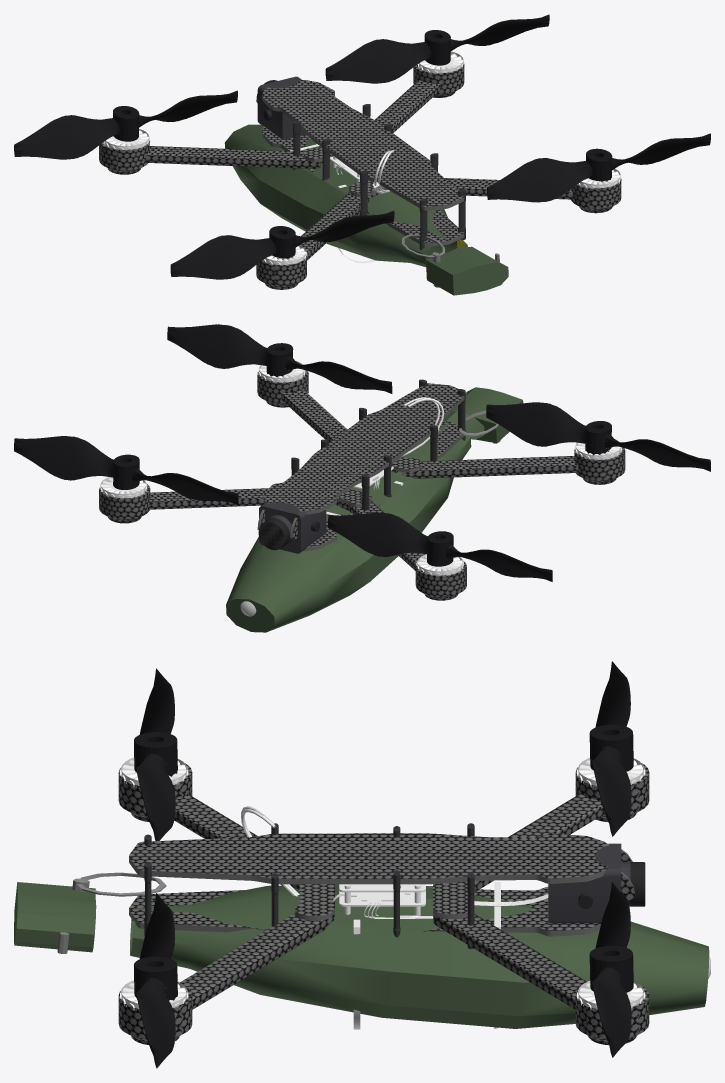
File: dron4.gltf
The picture shows the model from 3 angles, top to bottom: view 1: azimuth 30°, elevation 25°; view 2: azimuth 150°, elevation 25°; view 3: azimuth 270°, elevation 25°; orthographic projection. The views are drawn at different scales.
Visible parts, largest first — view 1: object 9, Circle, wirt4, wirt3, Geode, wirt2, Object_Material.003_0, object 8, object 7; view 2: object 9, Circle, wirt4, wirt3, Geode, wirt2, Object_Material.003_0, object 7, object 8; view 3: object 9, Circle, Object_Material.003_0, wirt4, wirt3, wirt2, Geode, object 7, object 8.
Part boxes in pixels (x1,y1,x2,y2): object 9: [99, 64, 621, 289]; Circle: [224, 124, 508, 295]; wirt4: [325, 14, 549, 83]; wirt3: [14, 90, 237, 159]; Geode: [170, 210, 394, 279]; wirt2: [487, 133, 710, 202]; Object_Material.003_0: [103, 51, 621, 264]; object 8: [293, 104, 465, 249]; object 7: [257, 76, 306, 139]; object 9: [99, 370, 625, 600]; Circle: [226, 387, 523, 632]; wirt4: [14, 436, 238, 505]; wirt3: [328, 512, 552, 581]; Geode: [486, 402, 710, 471]; wirt2: [167, 324, 392, 393]; Object_Material.003_0: [99, 361, 622, 616]; object 7: [258, 502, 326, 553]; object 8: [291, 379, 465, 510]; object 9: [118, 763, 649, 1045]; Circle: [14, 872, 709, 1028]; Object_Material.003_0: [120, 757, 710, 1029]; wirt4: [589, 882, 633, 1057]; wirt3: [589, 661, 633, 836]; wirt2: [134, 893, 177, 1068]; Geode: [134, 668, 177, 841]; object 7: [548, 843, 645, 923]; object 8: [144, 823, 474, 949].
Size of the model in its own units: 5.46 by 1.34 by 4.2.
Materials: 11 (7 with a texture image).
